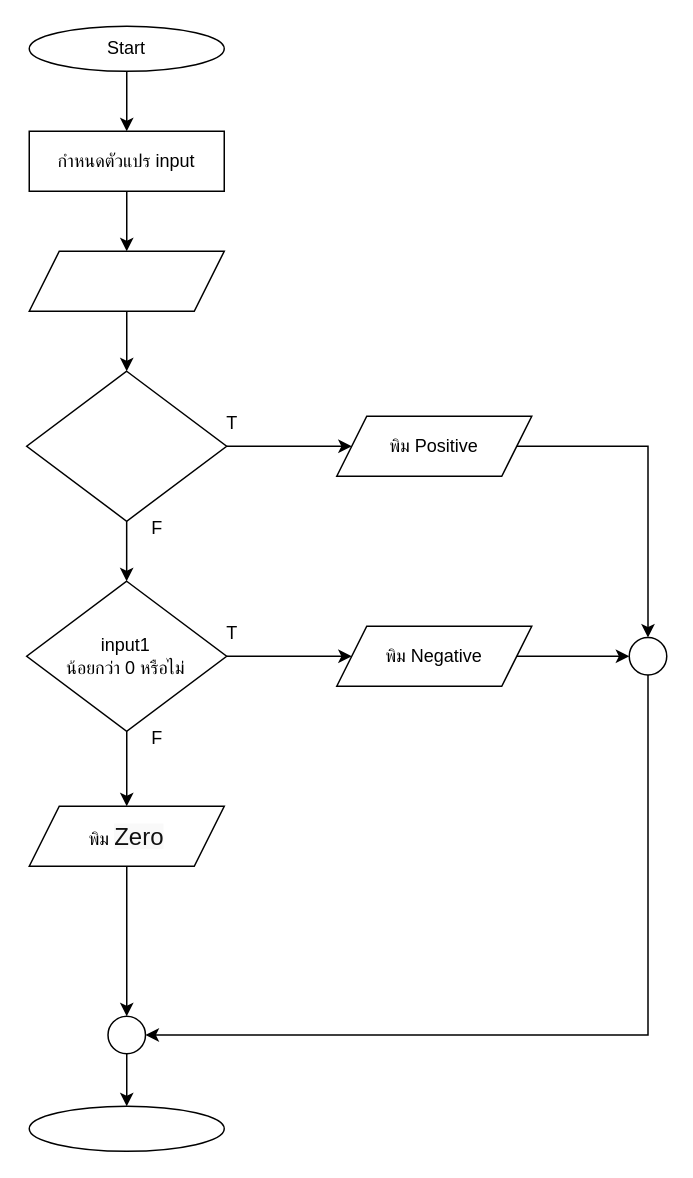
This 693x1178 diagram has some shape labels left out. Here are the shapes that lost their labels. From the top down, the centre of each, then its label:
[126,280]: กรอกค่า input
[126,445]: input1 มากกว่า 0 หรือไม่
[126,1128]: End
